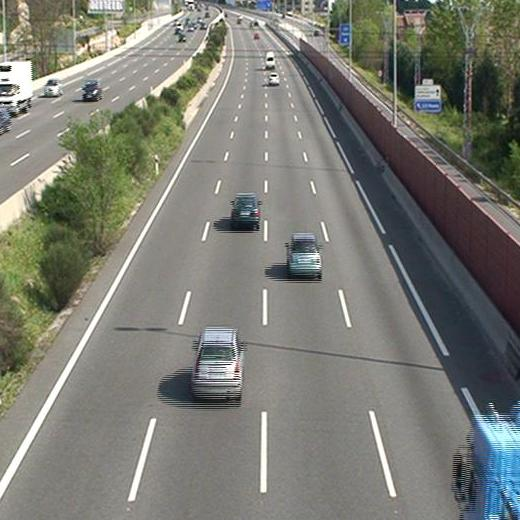car: (193, 328, 247, 399), (284, 235, 322, 277), (231, 192, 260, 228), (268, 72, 279, 86)
van: (265, 52, 276, 69)
